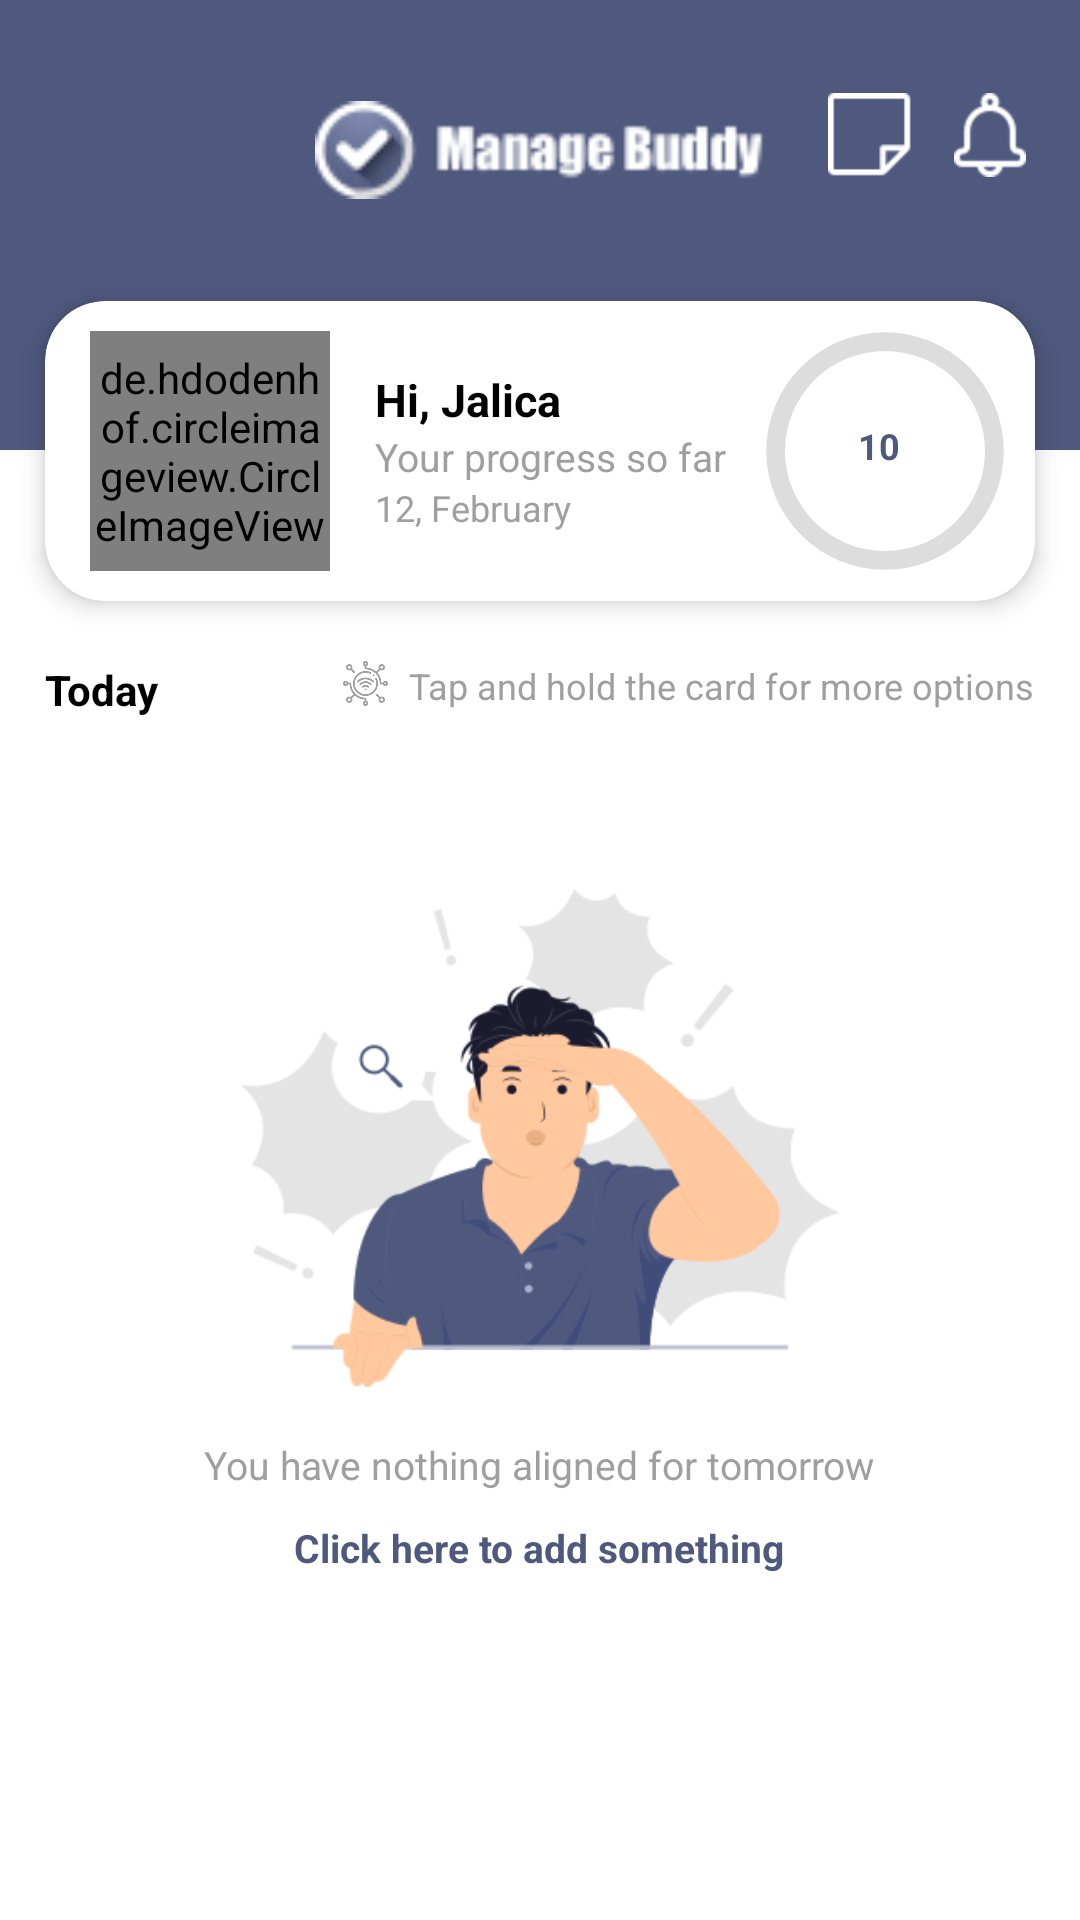

Locate icon controls on the screen. Image size 1080 × 1920, boxes as (x1, y1, x2, y2).
mytask: (828, 93, 911, 176)
notification: (954, 93, 1026, 177)
wirelessnetwork: (343, 661, 388, 706)
